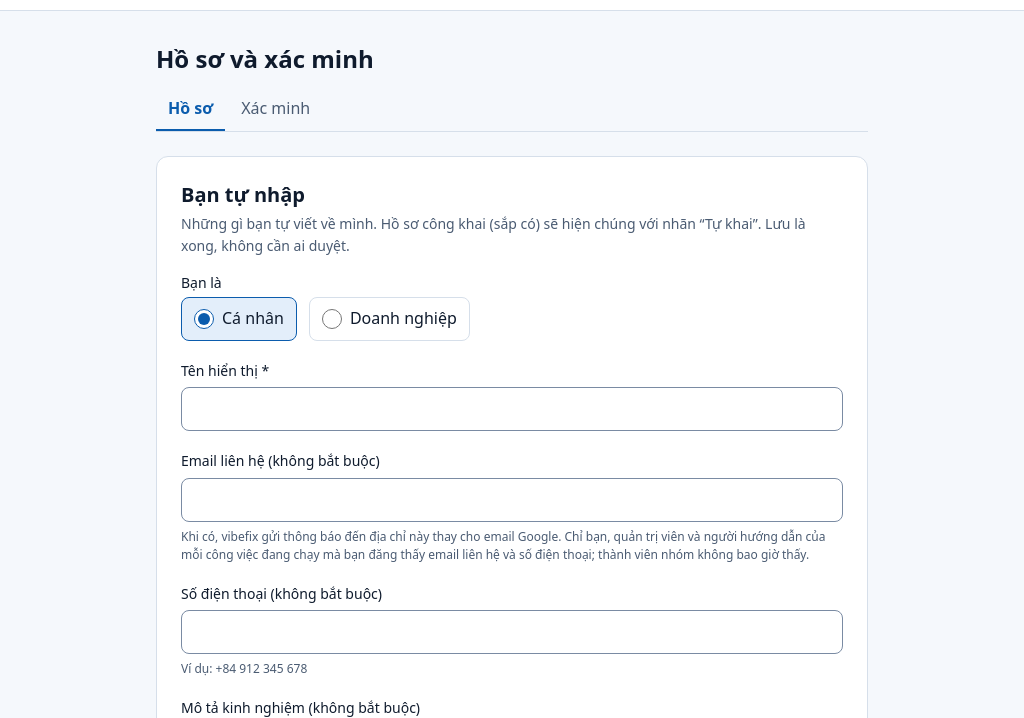
Test: ACC-1 "Bạn tự nhập" (Story 19.3, FR-3, FR-4, UX-DR44) › validates on blur and on submit, with a summary linking each field
Type "not-an-email" into the field labelled "Email liên hệ (không bắt buộc)" at (512, 500), box left=181, top=478, right=843, bottom=522
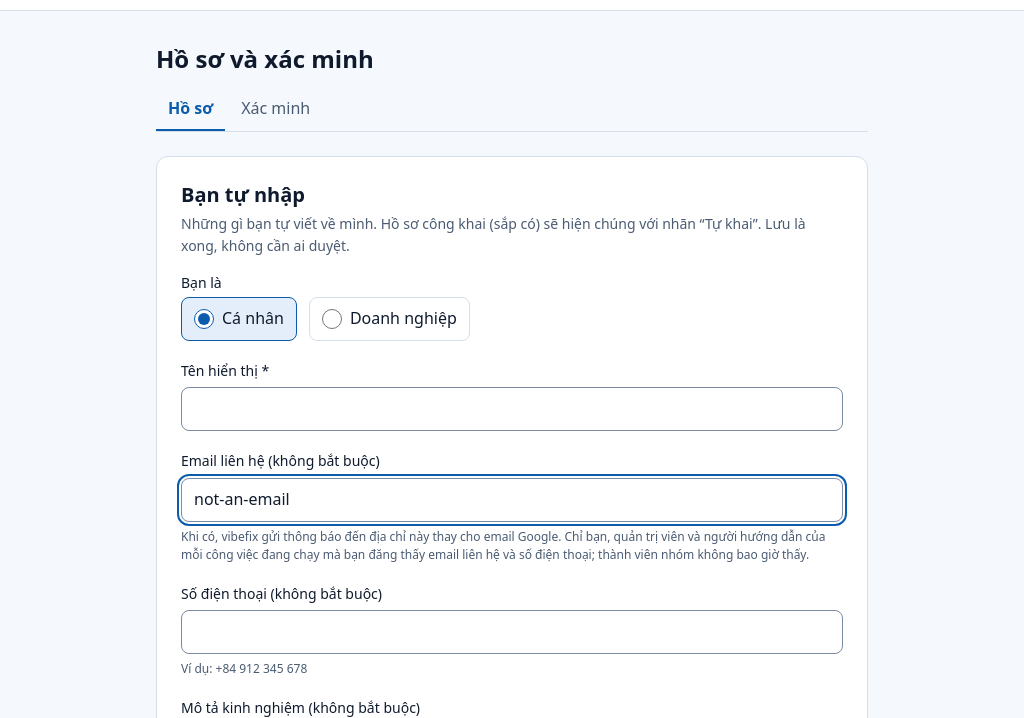
Press Tab
(page scrolled)
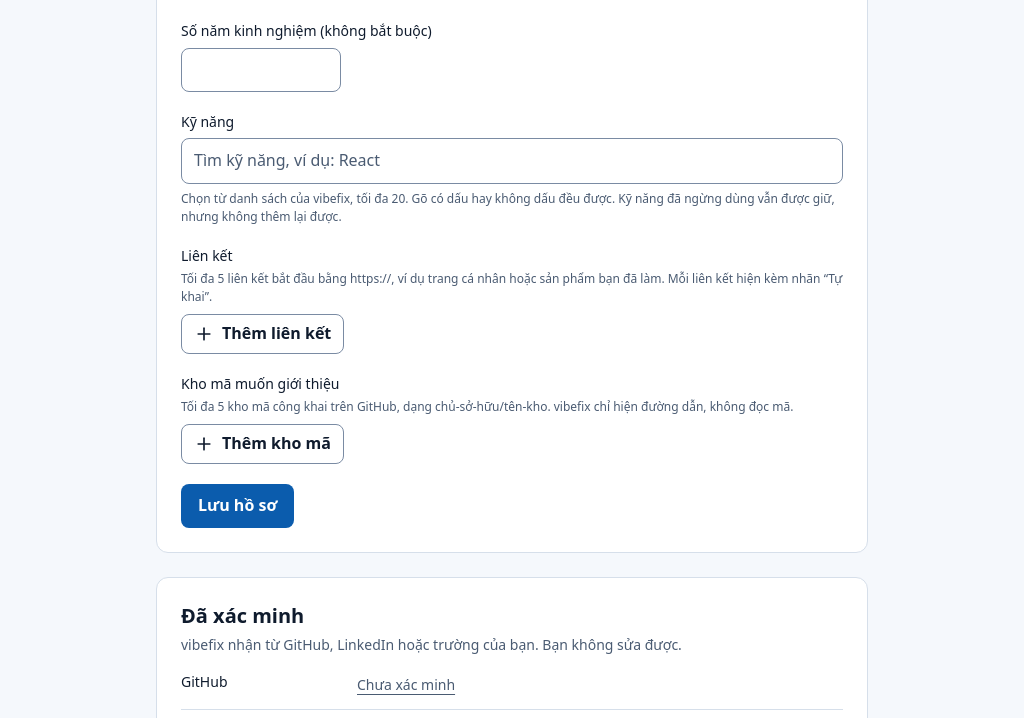
Click the button "Thêm liên kết" at (263, 334), box left=181, top=314, right=344, bottom=354
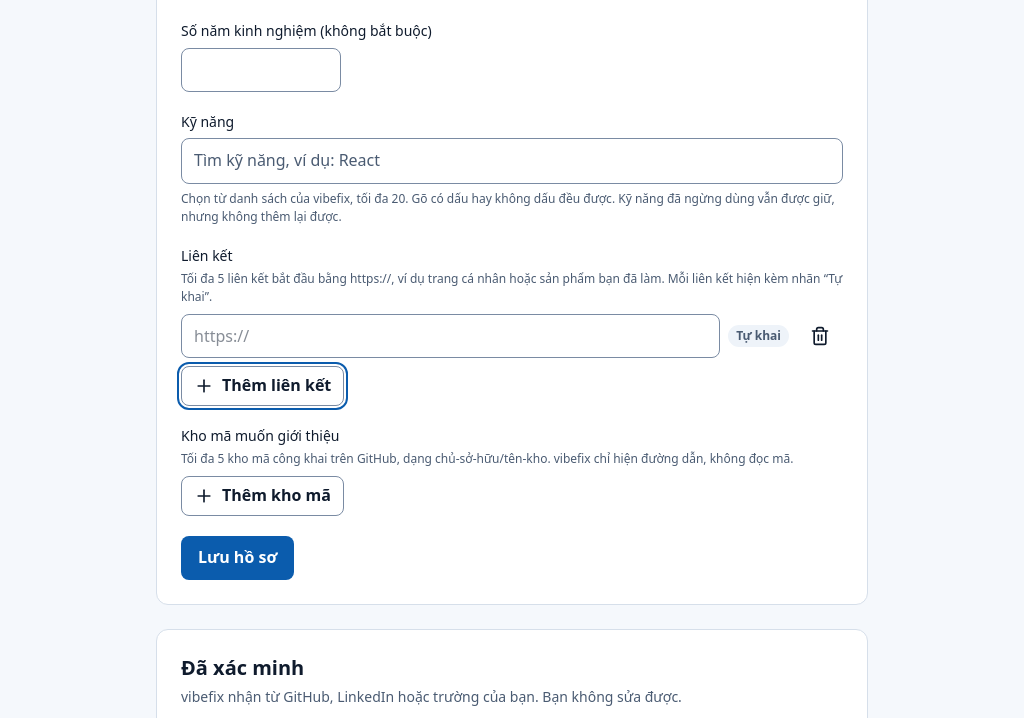
Type "http://lan.vn" into the field named "Liên kết 1" at (451, 336), box left=181, top=314, right=720, bottom=358
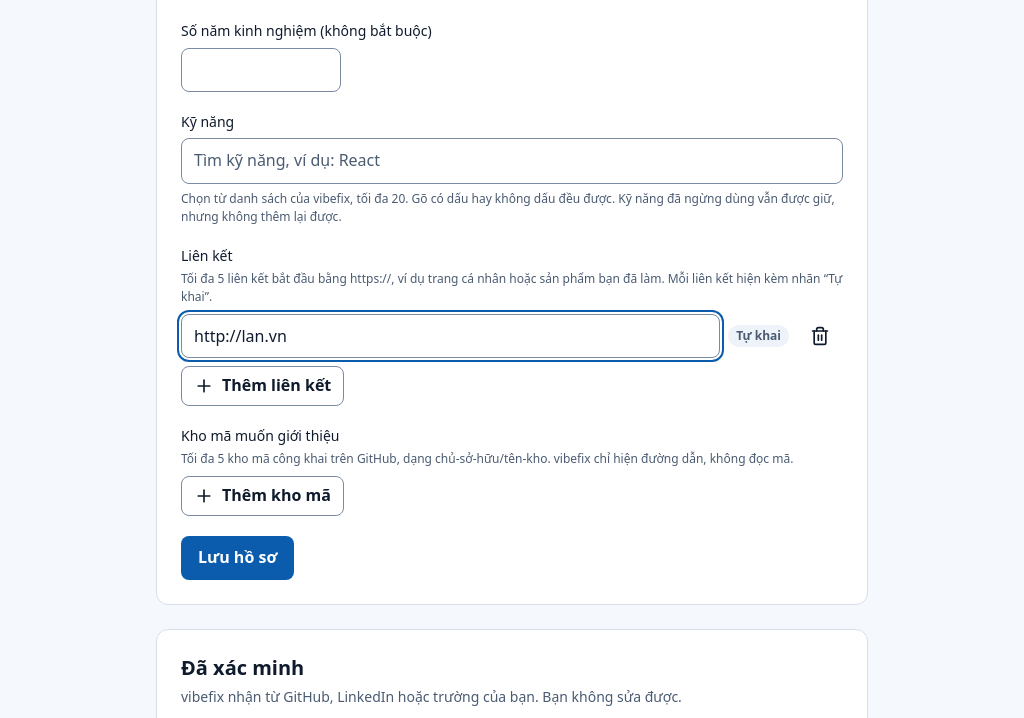
Click the button "Lưu hồ sơ" at (238, 558), box left=181, top=536, right=294, bottom=580
(page scrolled)
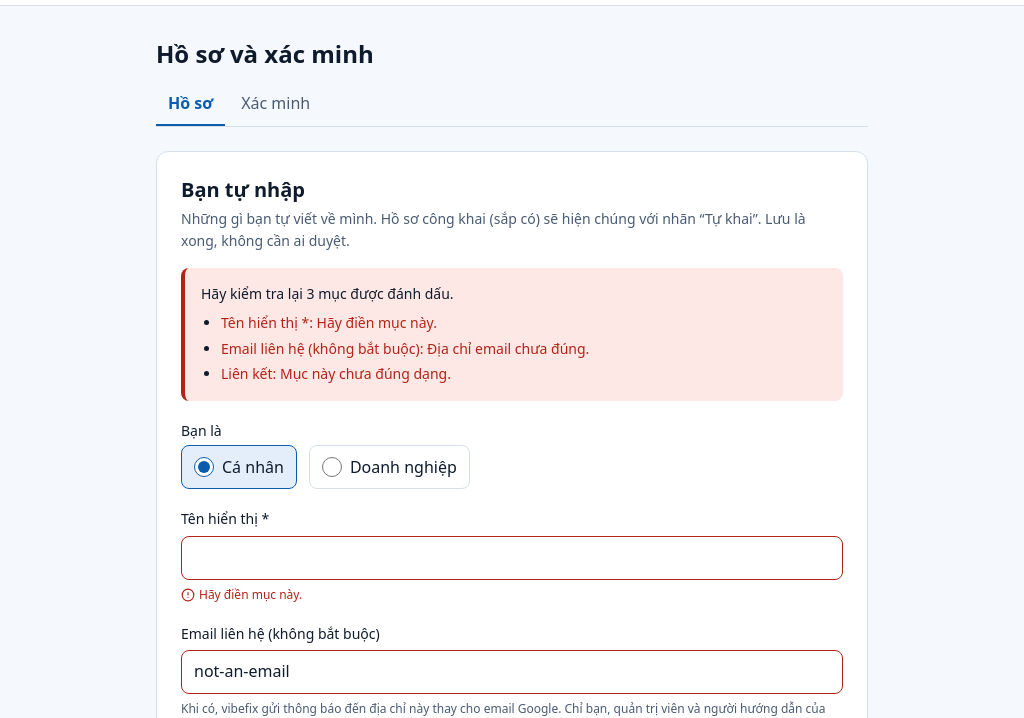
Now the message shows "Hãy kiểm tra lại 3 mục được đánh dấu.", box left=201, top=284, right=454, bottom=303
